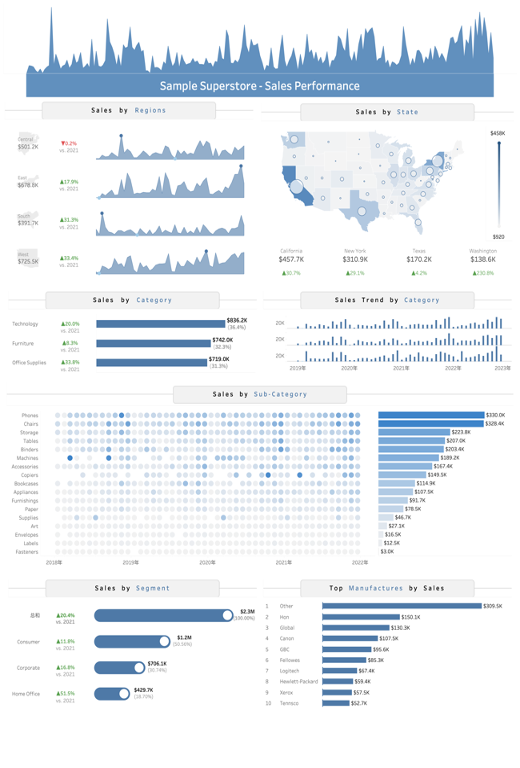

The dashboard page shown, as its layout file describes it:
{"tool":"tableau","page":{"name":"仪表板 1","canvas":[1300,1800],"ordinal":0},"visuals":[{"type":"worksheet","title":"Weekly Sales Trend - Header","mark":"Area","rows":["Sales"],"cols":["Order Date"],"box":[8,8,1284,164]},{"type":"text","box":[8,172,1284,55]},{"type":"worksheet","title":"Sales  by Region - Header","mark":"Shape","rows":["Calculation_1641350981688217601"],"box":[7,233,630,50]},{"type":"worksheet","title":"Sales by State - Header","mark":"Shape","rows":["Calculation_1641350981688217601"],"box":[649,237,640,50]},{"type":"worksheet","title":"Sales by Region","mark":"Multipolygon","rows":["Region"],"cols":["Calculation_1641350981697363980","Calculation_1641350981697363980"],"box":[11,287,117,367]},{"type":"worksheet","title":"YOY% -  Region","mark":"Text","rows":["Region"],"cols":["Calculation_1641350981709729809","Calculation_1641350981709729809"],"box":[128,287,89,367]},{"type":"worksheet","title":"Monthly Sales Trend - Region","mark":"Area","rows":["Region","Sales"],"cols":["Order Date"],"box":[217,287,416,367]},{"type":"worksheet","title":"Sales by State - Map","mark":"Multipolygon","box":[653,291,558,277]},{"type":"worksheet","title":"Map - Color Legend","mark":"Line","rows":["Sales"],"box":[1211,291,74,277]},{"type":"worksheet","title":"Top Sales by State - KPI","mark":"Automatic","cols":["State"],"box":[649,572,640,54]},{"type":"worksheet","title":"YOY% - Top States","mark":"Automatic","cols":["State"],"box":[649,626,640,28]},{"type":"worksheet","title":"Sales by Category - Header","mark":"Shape","rows":["Calculation_1641350981688217601"],"box":[16,678,630,50]},{"type":"worksheet","title":"Sales Trend by Category - header","mark":"Shape","rows":["Calculation_1641350981688217601"],"box":[654,678,630,50]},{"type":"worksheet","title":"Monthly Sales Trend - Category","mark":"Bar","rows":["Category","Sales"],"cols":["Order Date"],"box":[654,728,630,153]},{"type":"worksheet","title":"YOY% -  Category","mark":"Text","rows":["Category"],"cols":["Calculation_1641350981709729809","Calculation_1641350981709729809"],"box":[20,732,216,145]},{"type":"worksheet","title":"Sales by Category - Bar","mark":"Automatic","rows":["Category"],"cols":["Sales"],"box":[236,732,406,145]},{"type":"worksheet","title":"Sales by Sub-Category - Header","mark":"Shape","rows":["Calculation_1641350981688217601"],"box":[12,893,1276,62]},{"type":"worksheet","title":"Monthly Sales Trend - Sub-Category","mark":"Circle","rows":["Sub-Category"],"cols":["Order Date"],"box":[16,959,926,379]},{"type":"worksheet","title":"Monthly Sales Trend - Sub-Category (2)","mark":"Bar","rows":["Sub-Category"],"cols":["Sales"],"box":[942,959,342,379]},{"type":"worksheet","title":"Sales by Segment - Header","mark":"Shape","rows":["Calculation_1641350981688217601"],"box":[16,1354,630,50]},{"type":"worksheet","title":"Top Manufacture by Sales - Header","mark":"Shape","rows":["Calculation_1641350981688217601"],"box":[654,1354,630,50]},{"type":"worksheet","title":"Top Manufacturers by Sales","mark":"Bar","rows":["Calculation_1641350982066917399","Manufacturer"],"cols":["Sales","Calculation_1615947865772728325"],"box":[654,1404,630,261]},{"type":"worksheet","title":"YOY% -  Segment","mark":"Text","rows":["Segment"],"cols":["Calculation_1641350981709729809","Calculation_1641350981709729809"],"box":[20,1408,207,253]},{"type":"worksheet","title":"Sales by Segment - Bar","mark":"Line","rows":["Segment"],"cols":["Sales"],"box":[227,1408,415,253]},{"type":"blank","box":[8,1673,1284,119]}]}

Visuals, with their boxes on the page's 1300x1800 design canvas (x1, y1, x2, y2). These are canvas units, not pixel positions in the 520x768 screenshot, which may show the page scaled, cropped or inside an application window:
"Weekly Sales Trend - Header" worksheet (Area marks): 8 8 1292 172
text: 8 172 1292 227
"Sales  by Region - Header" worksheet (Shape marks): 7 233 637 283
"Sales by State - Header" worksheet (Shape marks): 649 237 1289 287
"Sales by Region" worksheet (Multipolygon marks): 11 287 128 654
"YOY% -  Region" worksheet (Text marks): 128 287 217 654
"Monthly Sales Trend - Region" worksheet (Area marks): 217 287 633 654
"Sales by State - Map" worksheet (Multipolygon marks): 653 291 1211 568
"Map - Color Legend" worksheet (Line marks): 1211 291 1285 568
"Top Sales by State - KPI" worksheet: 649 572 1289 626
"YOY% - Top States" worksheet: 649 626 1289 654
"Sales by Category - Header" worksheet (Shape marks): 16 678 646 728
"Sales Trend by Category - header" worksheet (Shape marks): 654 678 1284 728
"Monthly Sales Trend - Category" worksheet (Bar marks): 654 728 1284 881
"YOY% -  Category" worksheet (Text marks): 20 732 236 877
"Sales by Category - Bar" worksheet: 236 732 642 877
"Sales by Sub-Category - Header" worksheet (Shape marks): 12 893 1288 955
"Monthly Sales Trend - Sub-Category" worksheet (Circle marks): 16 959 942 1338
"Monthly Sales Trend - Sub-Category (2)" worksheet (Bar marks): 942 959 1284 1338
"Sales by Segment - Header" worksheet (Shape marks): 16 1354 646 1404
"Top Manufacture by Sales - Header" worksheet (Shape marks): 654 1354 1284 1404
"Top Manufacturers by Sales" worksheet (Bar marks): 654 1404 1284 1665
"YOY% -  Segment" worksheet (Text marks): 20 1408 227 1661
"Sales by Segment - Bar" worksheet (Line marks): 227 1408 642 1661
blank: 8 1673 1292 1792
